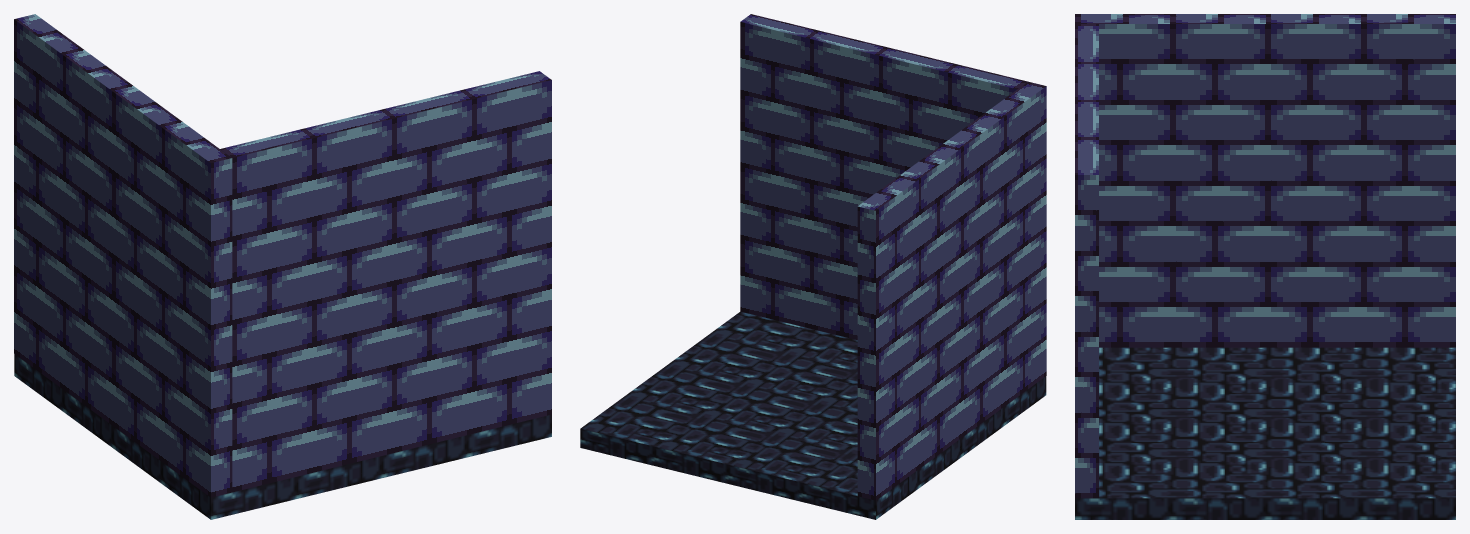
Rendered from corner_sw.obj.
The picture shows the model from 3 angles, left to right: view 1: azimuth 30°, elevation 25°; view 2: azimuth 150°, elevation 25°; view 3: azimuth 270°, elevation 25°; orthographic projection. The views are drawn at different scales.
Visible parts, largest first — view 1: wall, floor; view 2: wall, floor; view 3: wall, floor.
Part boxes in pixels (left/top/right/bottom): wall: left=14, top=14, right=551, bottom=497; floor: left=14, top=354, right=551, bottom=519; wall: left=740, top=14, right=1046, bottom=500; floor: left=580, top=311, right=1046, bottom=519; wall: left=1075, top=14, right=1455, bottom=498; floor: left=1075, top=347, right=1455, bottom=519.
Size of the model in its own units: 16.01 by 16 by 16.
Materials: 2 (2 with a texture image).
